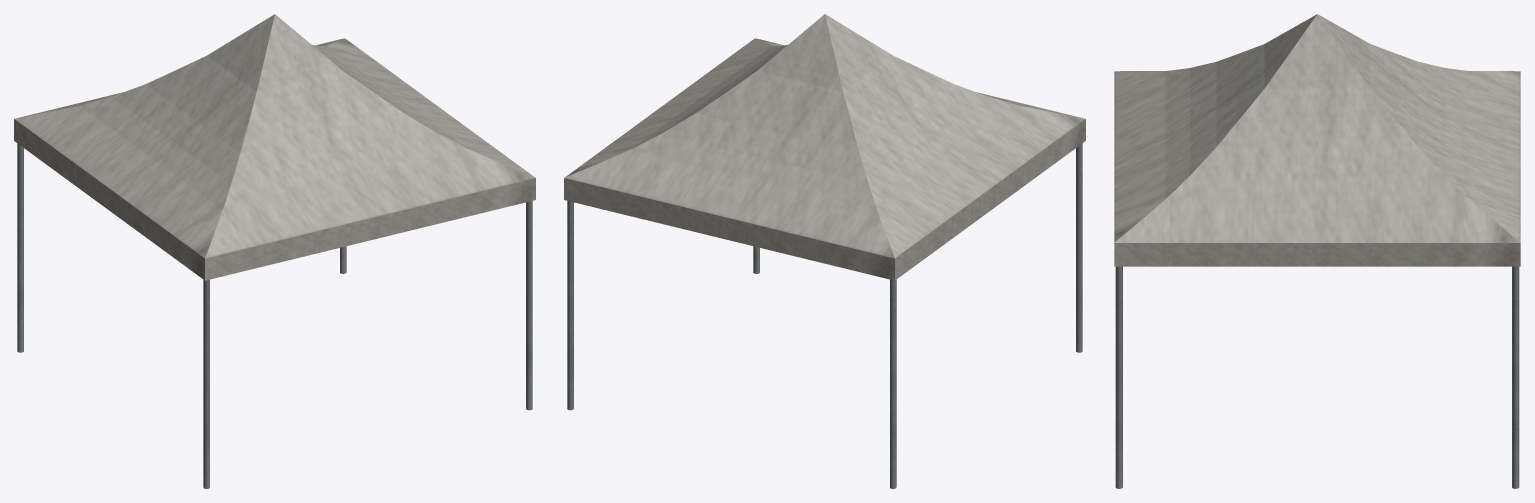
Rendered from Tent.fbx.
3 views of the same model, side by side, from view 1: azimuth 30°, elevation 25°; view 2: azimuth 150°, elevation 25°; view 3: azimuth 270°, elevation 25° (orthographic). The views are drawn at different scales.
Parts seen in each view (by area): view 1: Stall; view 2: Stall; view 3: Stall.
Part boxes in pixels (bbox=[...]): Stall: bbox=[14, 14, 535, 488]; Stall: bbox=[564, 14, 1085, 488]; Stall: bbox=[1114, 14, 1520, 488].
Size of the model in its own units: 410 by 434 by 410.
